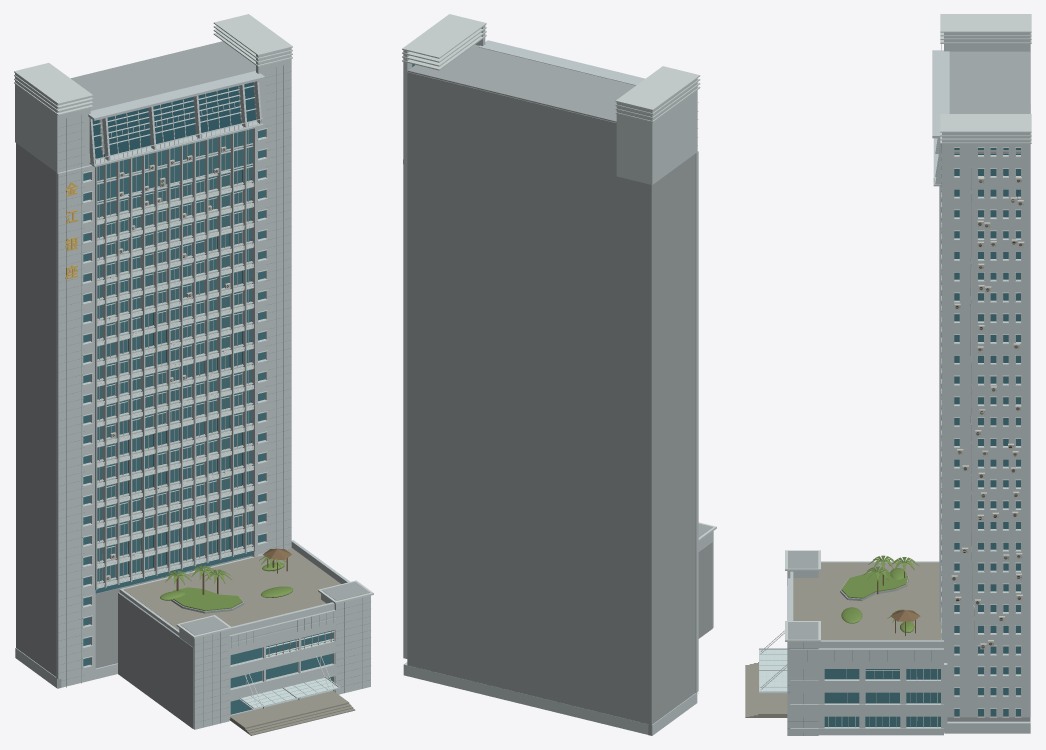
Rendered from detail.glb.
The picture shows the model from 3 angles, left to right: view 1: azimuth 30°, elevation 25°; view 2: azimuth 150°, elevation 25°; view 3: azimuth 270°, elevation 25°; orthographic projection. The views are drawn at different scales.
Visible parts, largest first — view 1: Front endwall panels, Observed canopy diagonal rod, Curved planter rim, Endwall inset glazing, Terrace paving surface, Endwall vertical panel joints, Recessed crown glazing, Curved planted island, Entrance canopy, S02 E006 cabinet; view 2: Curved planter rim, Front endwall panels, Observed canopy diagonal rod; view 3: Front endwall panels, Terrace paving surface, Endwall inset glazing, Observed canopy diagonal rod, Curved planter rim, S02 E006 cabinet, Curved planted island, Entrance canopy, Endwall vertical panel joints.
Part boxes in pixels (<box>): Front endwall panels: <box>15,48,370,729</box>; Observed canopy diagonal rod: <box>14,14,373,715</box>; Curved planter rim: <box>16,41,370,728</box>; Endwall inset glazing: <box>83,129,332,714</box>; Terrace paving surface: <box>123,548,355,735</box>; Endwall vertical panel joints: <box>58,65,370,727</box>; Recessed crown glazing: <box>92,82,255,158</box>; Curved planted island: <box>160,555,293,610</box>; Entrance canopy: <box>239,678,340,709</box>; S02 E006 cabinet: <box>97,146,251,580</box>; Curved planter rim: <box>407,44,712,735</box>; Front endwall panels: <box>403,25,713,735</box>; Observed canopy diagonal rod: <box>402,14,716,541</box>; Front endwall panels: <box>787,32,1030,735</box>; Terrace paving surface: <box>745,562,941,717</box>; Endwall inset glazing: <box>824,148,1020,726</box>; Observed canopy diagonal rod: <box>759,14,1031,727</box>; Curved planter rim: <box>788,51,1030,721</box>; S02 E006 cabinet: <box>951,167,1024,649</box>; Curved planted island: <box>841,555,918,632</box>; Entrance canopy: <box>759,649,787,693</box>; Endwall vertical panel joints: <box>788,44,941,735</box>.
Size of the model in its own units: 30.88 by 72.12 by 31.03.
